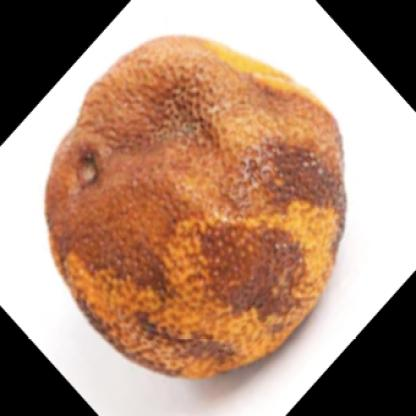rotten: (49, 36, 345, 380)
